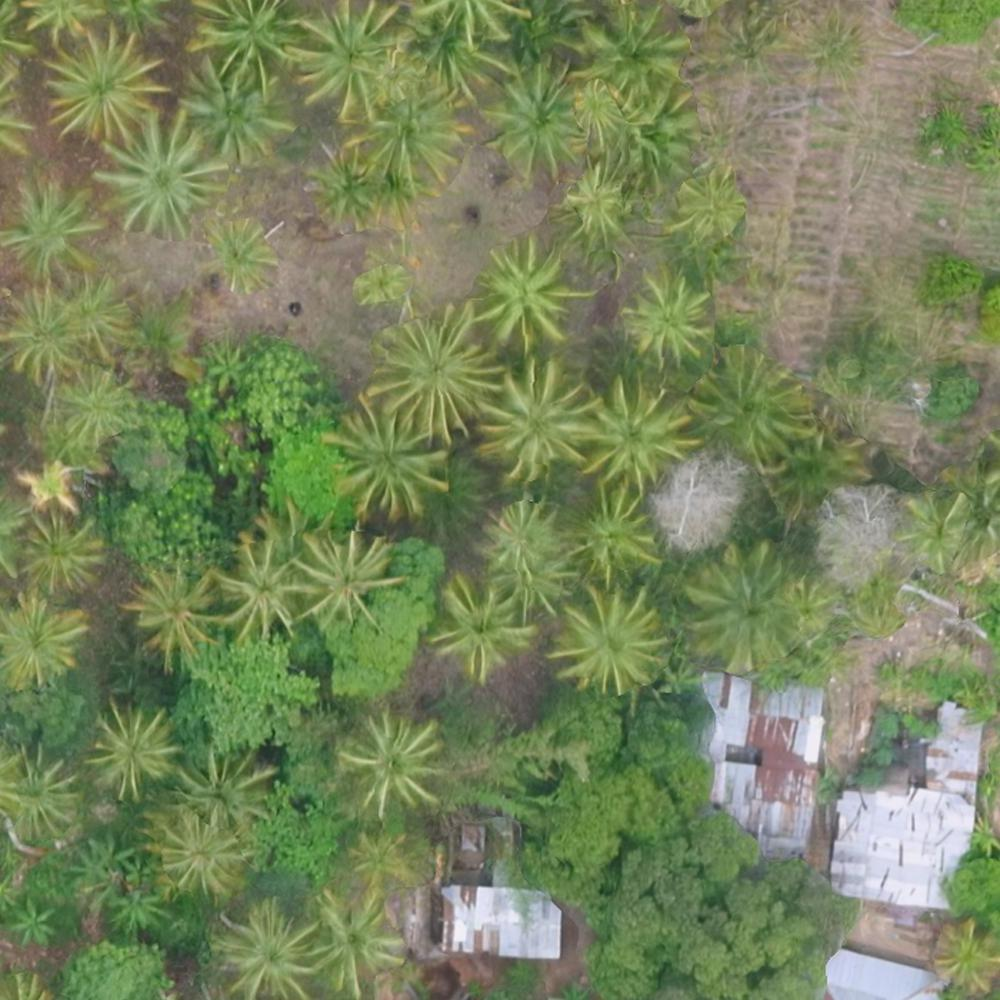not palm: (721, 812, 815, 901), (826, 735, 918, 816), (531, 823, 614, 909), (552, 919, 637, 996), (628, 818, 704, 904), (750, 911, 829, 993), (265, 305, 343, 385), (829, 825, 910, 902), (457, 924, 543, 996), (651, 918, 730, 995), (646, 736, 724, 811), (134, 467, 213, 541), (735, 741, 811, 810), (72, 942, 145, 997)
